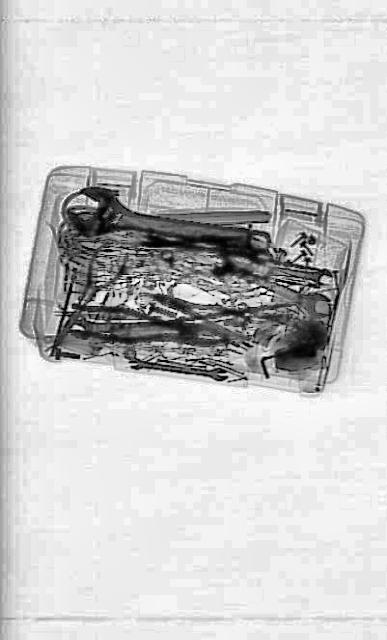Pliers: (44, 225, 132, 359)
Wrench: (65, 180, 271, 268), (210, 248, 330, 322), (127, 354, 226, 382), (72, 316, 172, 339), (271, 256, 333, 290)
